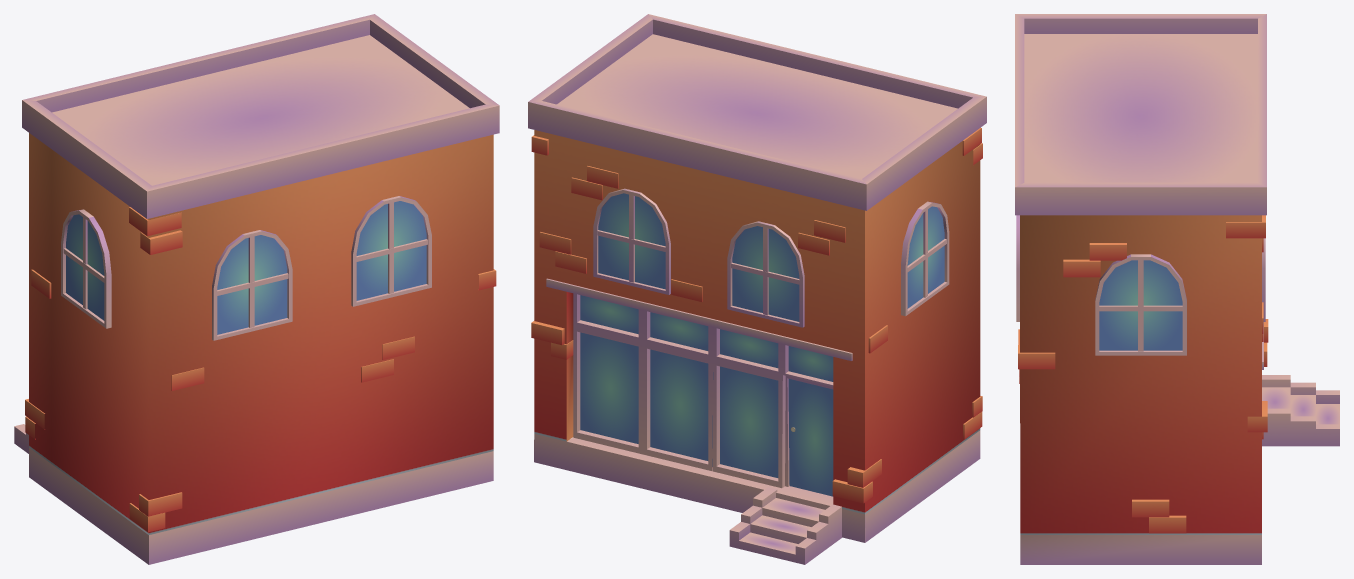
Rendered from SM_2F_Half_01.fbx.
3 renders of one model, left to right at view 1: azimuth 30°, elevation 25°; view 2: azimuth 150°, elevation 25°; view 3: azimuth 270°, elevation 25°, orthographic. The views are drawn at different scales.
Parts seen in each view (by area): view 1: SM_2F_Half_01; view 2: SM_2F_Half_01; view 3: SM_2F_Half_01.
Part boxes in pixels (<box>): SM_2F_Half_01: <box>14,14,499,564</box>; SM_2F_Half_01: <box>528,14,986,564</box>; SM_2F_Half_01: <box>1015,14,1339,564</box>.
Size of the model in its own units: 7.91 by 6.23 by 8.03.
